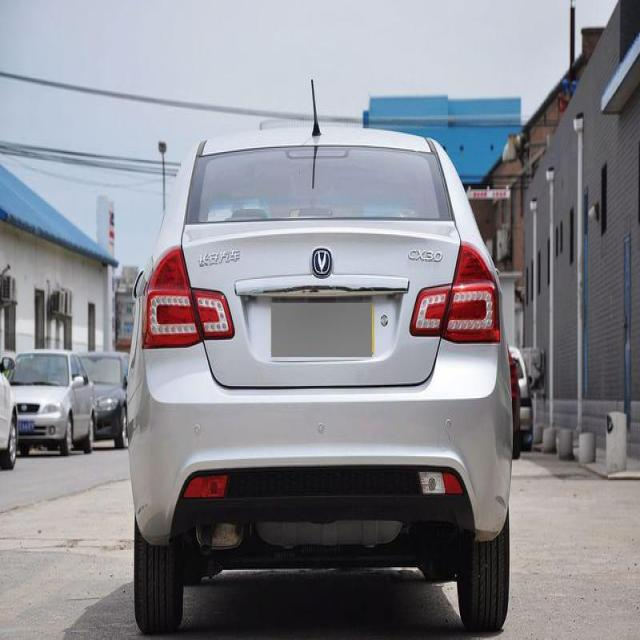back_glass: (185, 140, 452, 230)
back_left_side_light: (138, 240, 236, 354)
back_right_side_light: (410, 246, 500, 349)
rear_bumper: (126, 343, 515, 554)
wheel: (460, 528, 510, 636), (132, 529, 183, 632)
